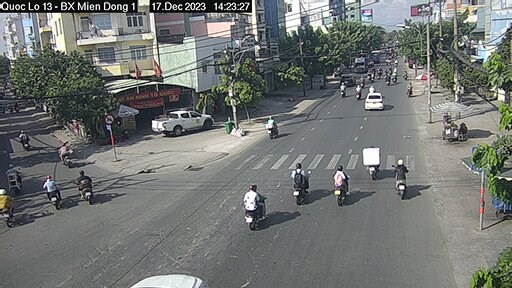car: (151, 109, 214, 137), (364, 93, 384, 110), (339, 74, 358, 86)
motorbike: (286, 159, 310, 204), (243, 183, 264, 227), (70, 175, 100, 205), (328, 164, 349, 202), (387, 161, 408, 199), (46, 174, 67, 210), (266, 116, 282, 142)
